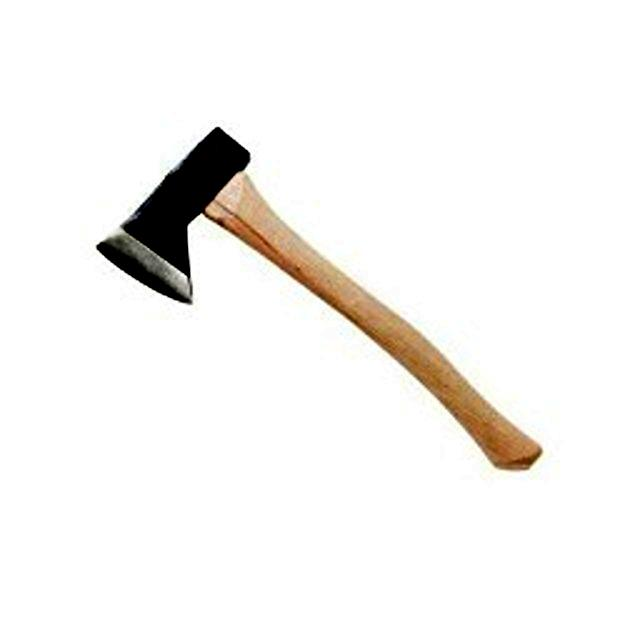ax: (78, 109, 558, 490)
